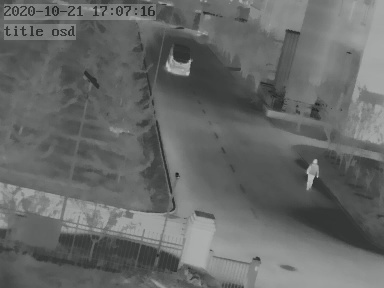person: (305, 156, 319, 191)
vehicle: (166, 43, 193, 76)
